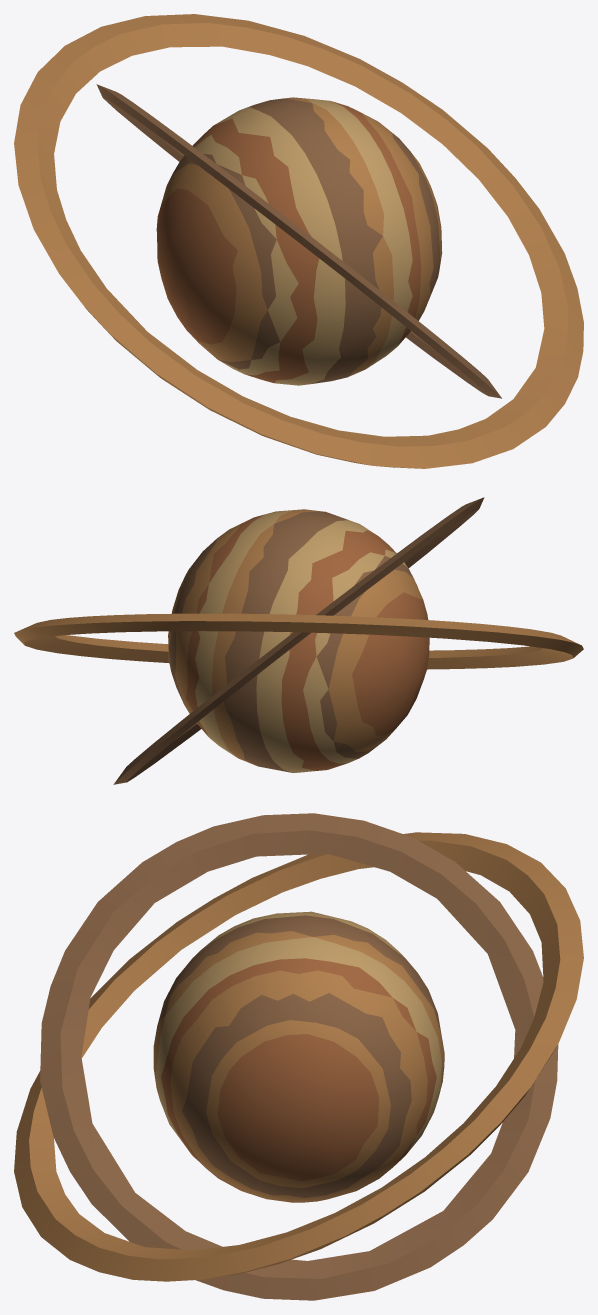
Rendered from planet-7.glb.
3 views of the same model, one above another, from view 1: azimuth 30°, elevation 25°; view 2: azimuth 150°, elevation 25°; view 3: azimuth 270°, elevation 25° (orthographic). The views are drawn at different scales.
Parts seen in each view (by area): view 1: Planet_7; view 2: Planet_7; view 3: Planet_7.
Boxes of the visible parts, bbox=[...] form: Planet_7: bbox=[14, 14, 583, 468]; Planet_7: bbox=[14, 497, 583, 784]; Planet_7: bbox=[14, 813, 583, 1300].
Bounding box in the file's own units: 4.81 × 2.87 × 4.46.
